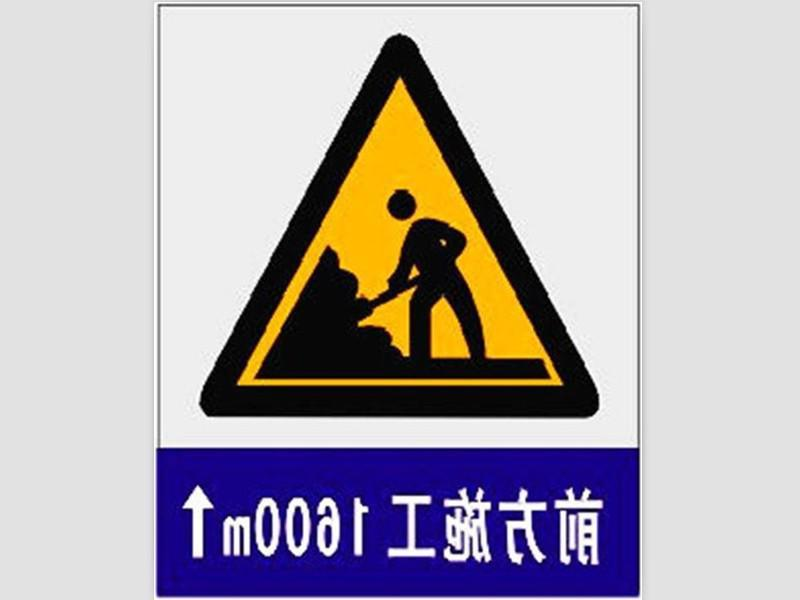sign: (163, 7, 632, 581)
